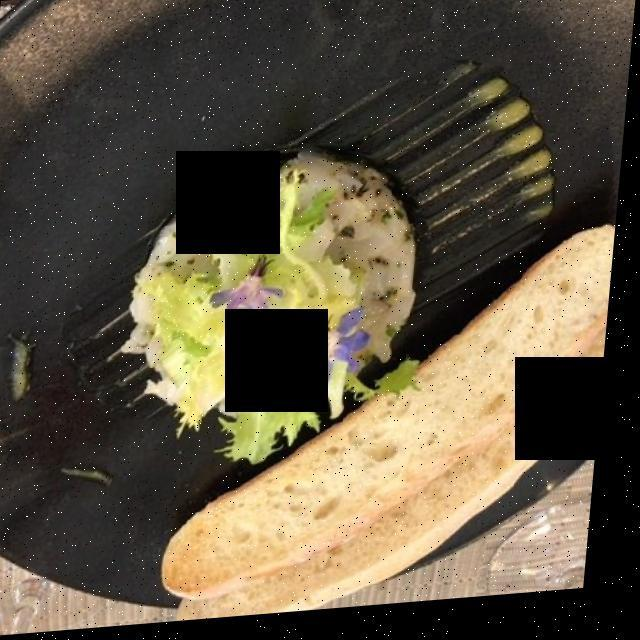bread: (181, 256, 600, 608)
